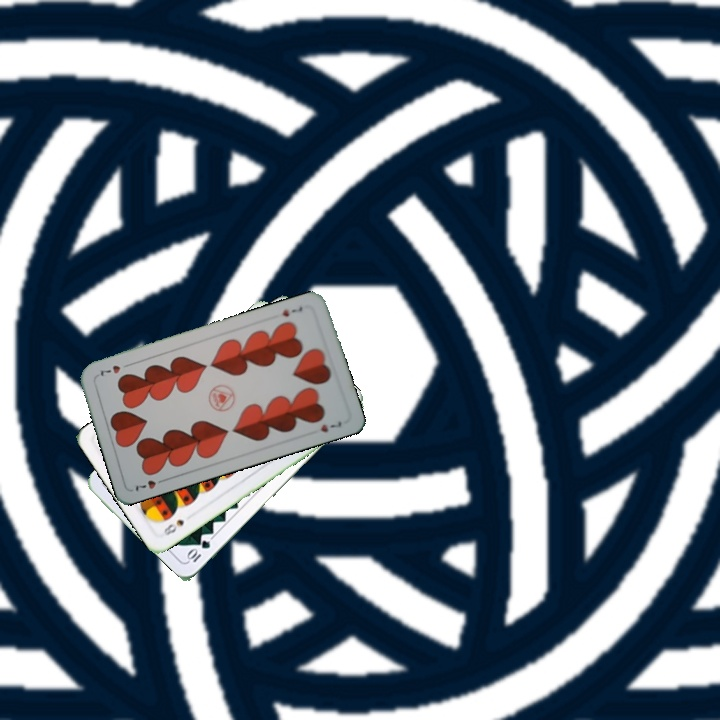G10: (183, 536, 213, 565)
H7: (131, 474, 169, 494), (278, 303, 305, 319)
S8: (160, 515, 187, 538)
